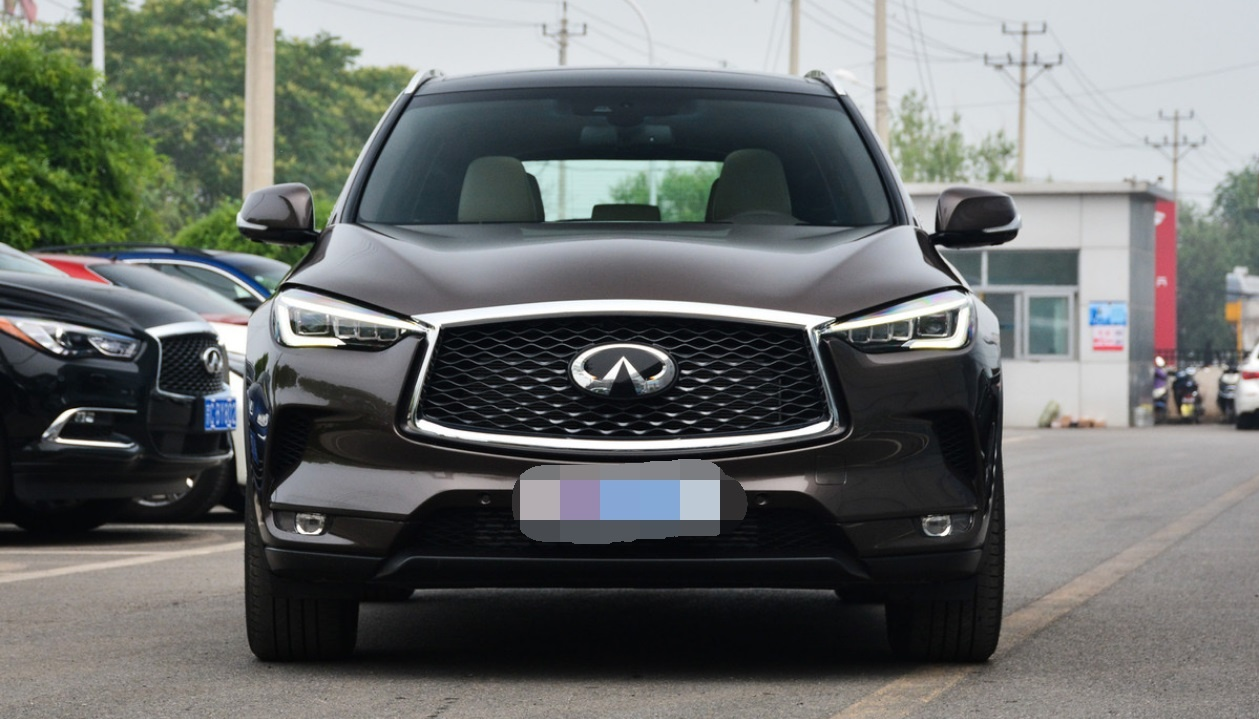SUV: (233, 68, 1007, 659)
